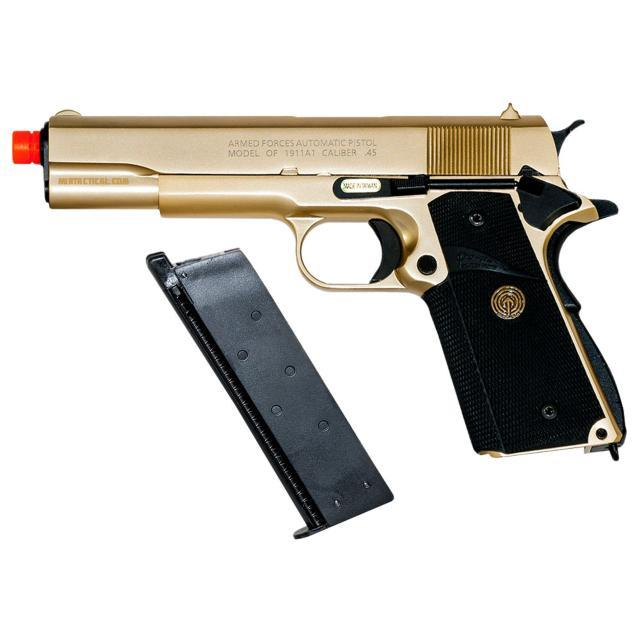Pistol: (1, 101, 640, 479)
